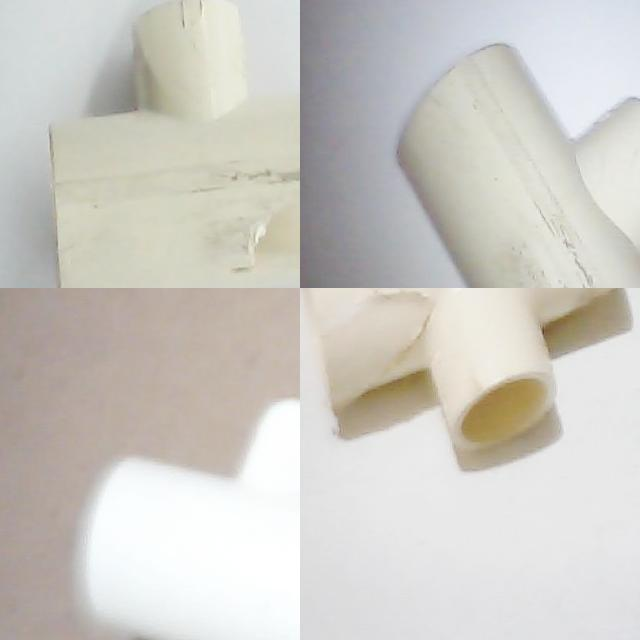Defective: (330, 288, 426, 386), (233, 190, 300, 288)
T Joint: (47, 0, 300, 288), (395, 44, 640, 288), (69, 398, 300, 640), (301, 288, 621, 446)
